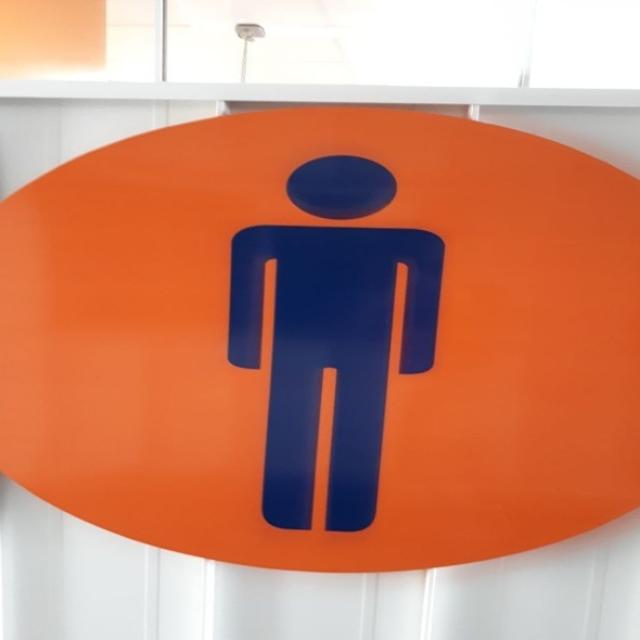mens_restroom: (0, 107, 639, 572)
